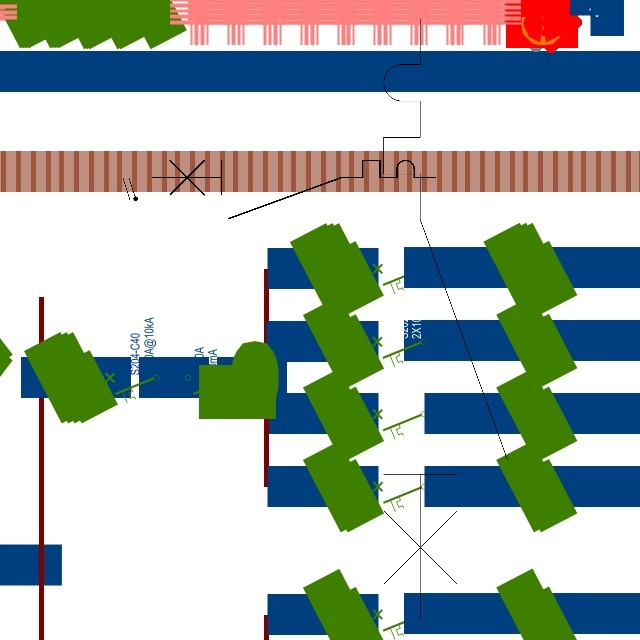interruptor_termomagnetico: (368, 3, 523, 636), (145, 153, 442, 225)
